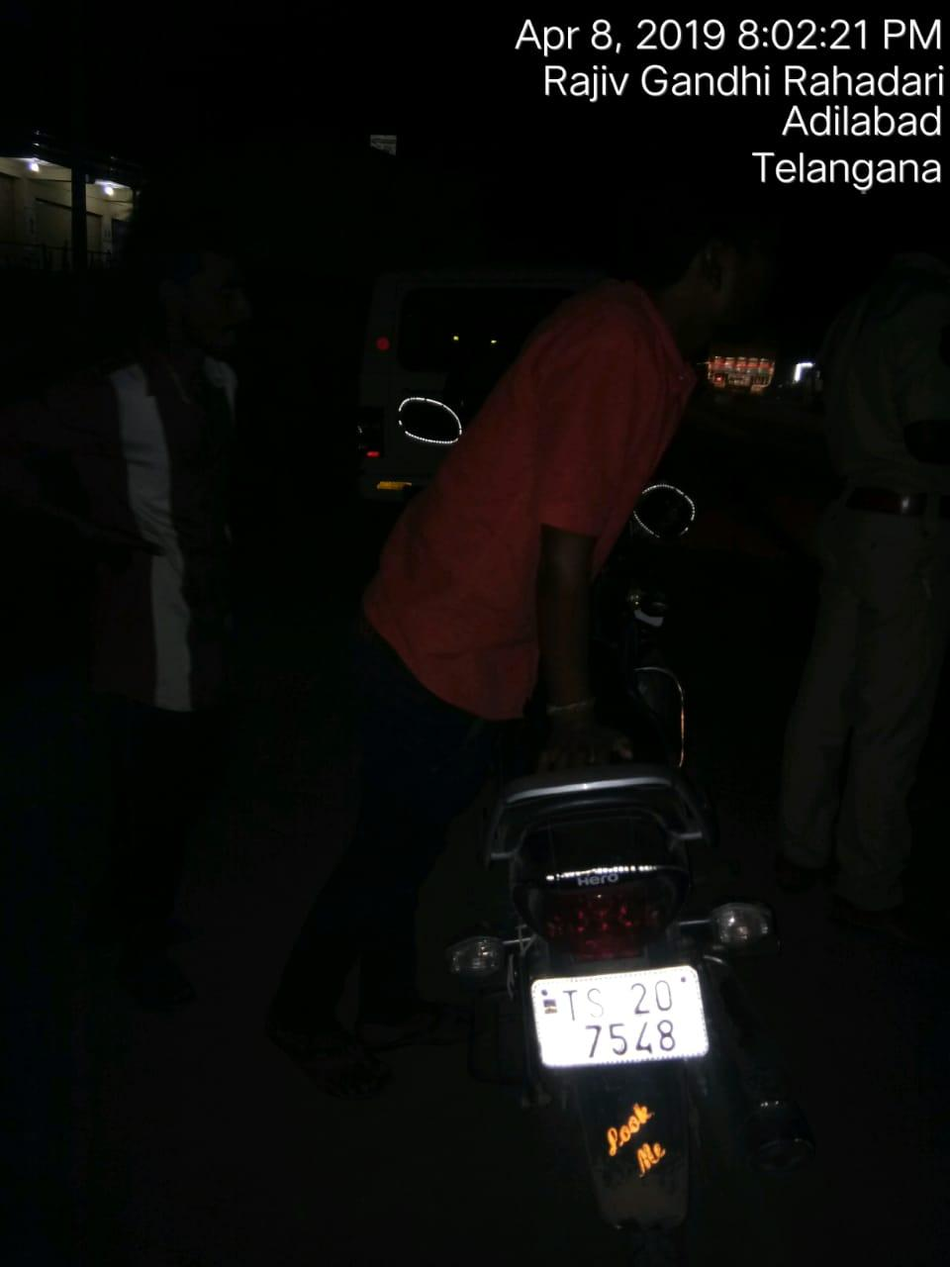plate: (510, 963, 722, 1084)
